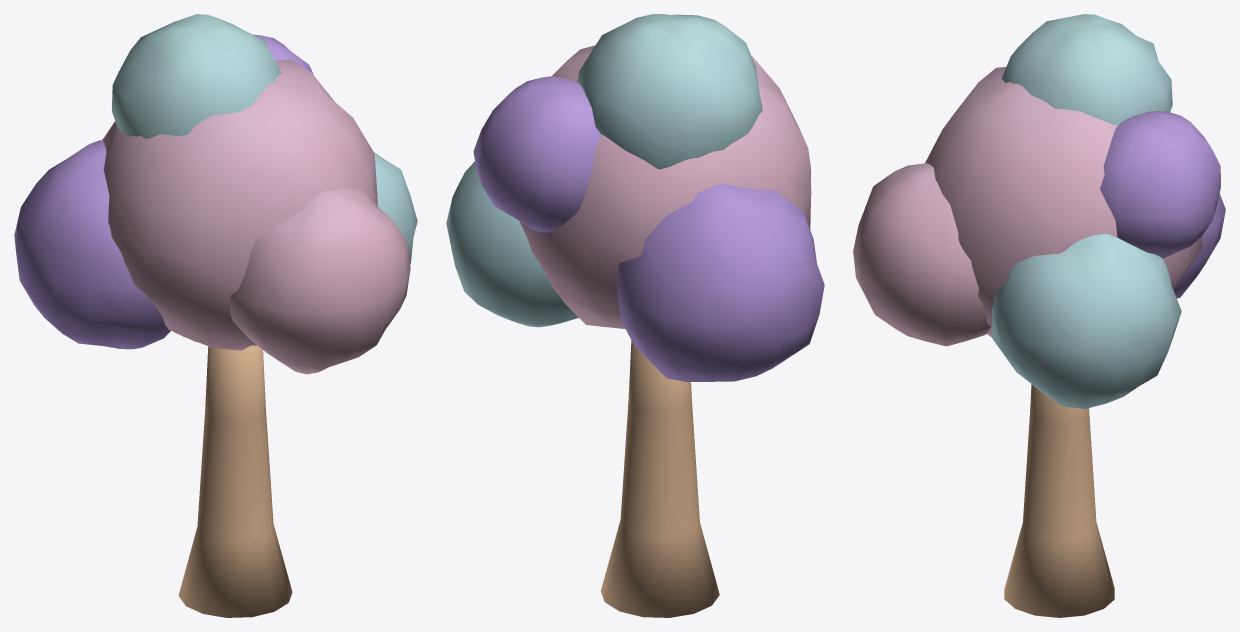
The model's file is bg_cotton.glb.
The picture shows the model from 3 angles, left to right: view 1: azimuth 30°, elevation 25°; view 2: azimuth 150°, elevation 25°; view 3: azimuth 270°, elevation 25°; orthographic projection. The views are drawn at different scales.
Parts seen in each view (by area): view 1: M_Cotton__ct_p1, M_Cotton__ct_wood, M_Cotton__ct_p3, M_Cotton__ct_p2; view 2: M_Cotton__ct_p3, M_Cotton__ct_p2, M_Cotton__ct_p1, M_Cotton__ct_wood; view 3: M_Cotton__ct_p1, M_Cotton__ct_p2, M_Cotton__ct_wood, M_Cotton__ct_p3.
Boxes of the visible parts, x1,y1,x2,y2 form: M_Cotton__ct_p1: (102,59,410,374); M_Cotton__ct_wood: (178,345,292,617); M_Cotton__ct_p3: (14,34,313,349); M_Cotton__ct_p2: (112,14,417,264); M_Cotton__ct_p3: (473,76,824,381); M_Cotton__ct_p2: (446,14,762,327); M_Cotton__ct_p1: (519,45,811,328); M_Cotton__ct_wood: (601,340,719,617); M_Cotton__ct_p1: (853,67,1202,346); M_Cotton__ct_p2: (992,14,1181,408); M_Cotton__ct_wood: (1004,384,1114,617); M_Cotton__ct_p3: (1100,111,1225,298).
Size of the model in its own units: 3.24 by 4.9 by 2.96.
